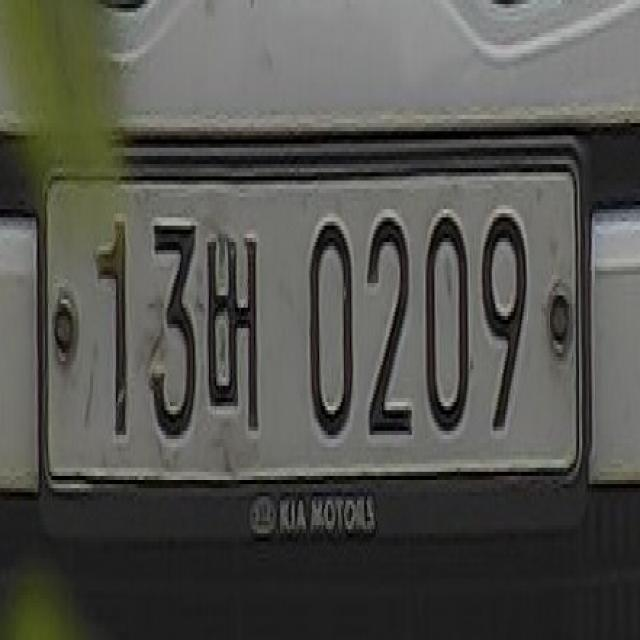0: (306, 205, 358, 456), (418, 201, 473, 435)
1: (93, 201, 139, 451)
2: (366, 205, 414, 443)
3: (144, 209, 197, 452)
9: (475, 197, 531, 459)
beo: (203, 226, 263, 451)
license_plate: (29, 115, 594, 521)
